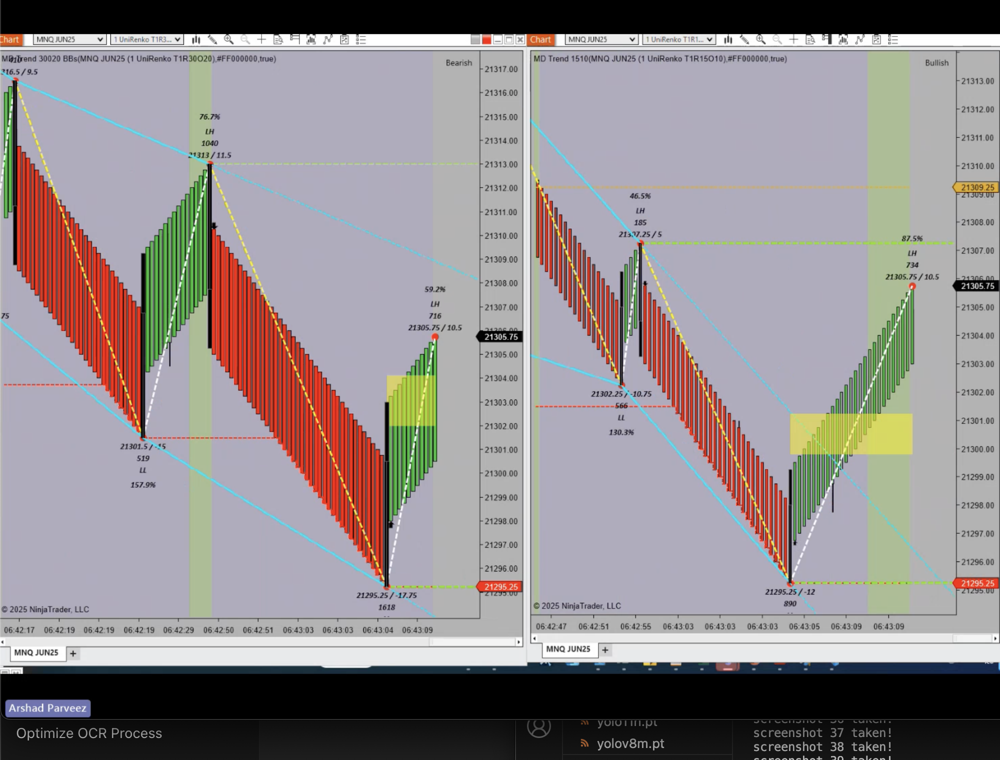LH: (422, 297, 446, 312), (631, 203, 653, 218), (901, 247, 926, 260), (200, 124, 219, 140)
LL: (611, 409, 633, 426), (134, 462, 151, 479)
